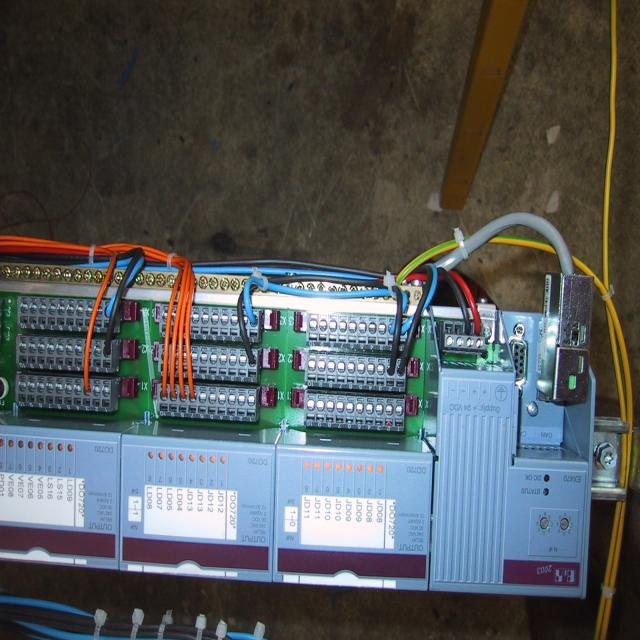SPS_System_Steuerungskomponente: (430, 376, 591, 599), (120, 434, 275, 583), (275, 450, 433, 590), (0, 422, 118, 572)
